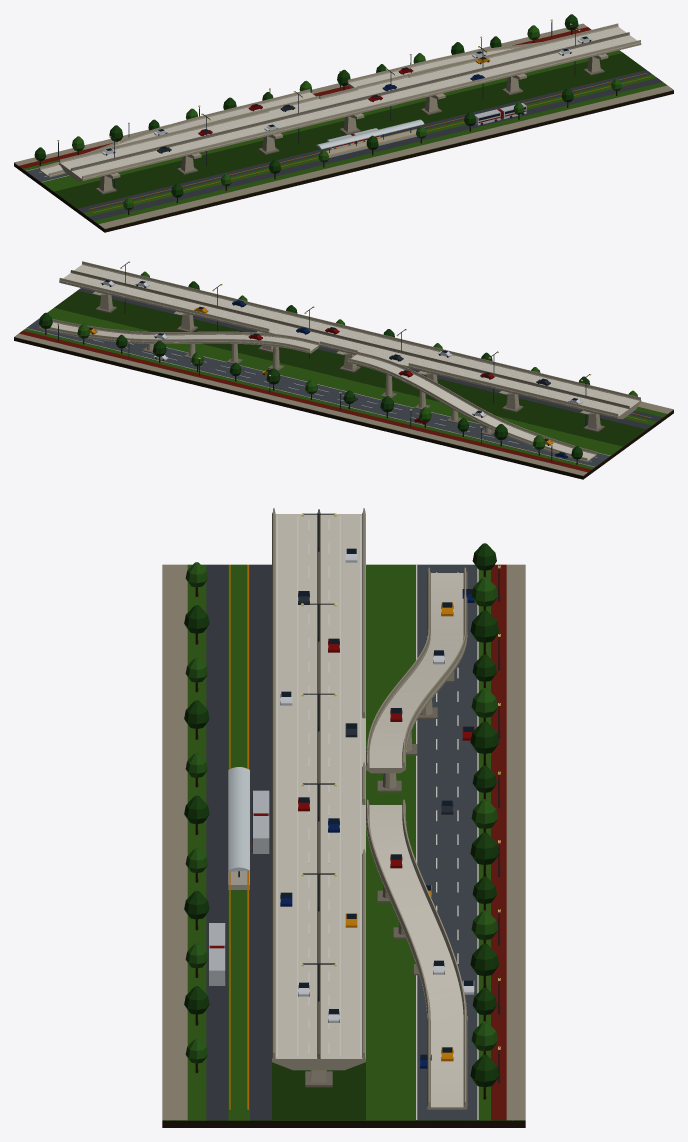
The model's file is via-expresa.obj.
3 views of the same model, one above another, from view 1: azimuth 30°, elevation 25°; view 2: azimuth 150°, elevation 25°; view 3: azimuth 270°, elevation 25° (orthographic). The views are drawn at different scales.
Visible parts, largest first — view 1: CorredorVial, ViaElevada, Terreno, ViaElevadaEncima, Rampas, Arboles, Columnas, Estacion, Vehiculos; view 2: CorredorVial, Terreno, ViaElevada, ViaElevadaEncima, Rampas, Arboles, Columnas, Vehiculos; view 3: CorredorVial, ViaElevada, Terreno, Rampas, Arboles, ViaElevadaEncima, Estacion, Vehiculos.
Part boxes in pixels (x1,y1,x2,y2): CorredorVial: (14,23,673,228); ViaElevada: (59,27,641,181); Terreno: (14,50,673,232); ViaElevadaEncima: (59,23,640,188); Rampas: (39,42,540,177); Arboles: (34,14,621,214); Columnas: (95,53,608,194); Estacion: (316,103,526,157); Vehiculos: (58,36,592,164); CorredorVial: (14,288,673,475); Terreno: (14,308,673,479); ViaElevada: (59,264,641,419); ViaElevadaEncima: (59,261,640,425); Rampas: (39,319,596,462); Arboles: (39,271,637,464); Columnas: (92,291,604,432); Vehiculos: (89,279,582,458); CorredorVial: (162,564,525,1120); ViaElevada: (272,514,365,1070); Terreno: (162,564,525,1127); Rampas: (366,567,467,1109); Arboles: (184,543,500,1099); ViaElevadaEncima: (272,508,365,1058); Estacion: (209,767,269,985); Vehiculos: (280,548,474,1068).
Size of the model in its own units: 210 by 18.7 by 58.
